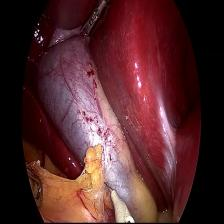Grasper: (74, 0, 109, 39), (26, 169, 44, 210)
Hook: (101, 177, 136, 224)
